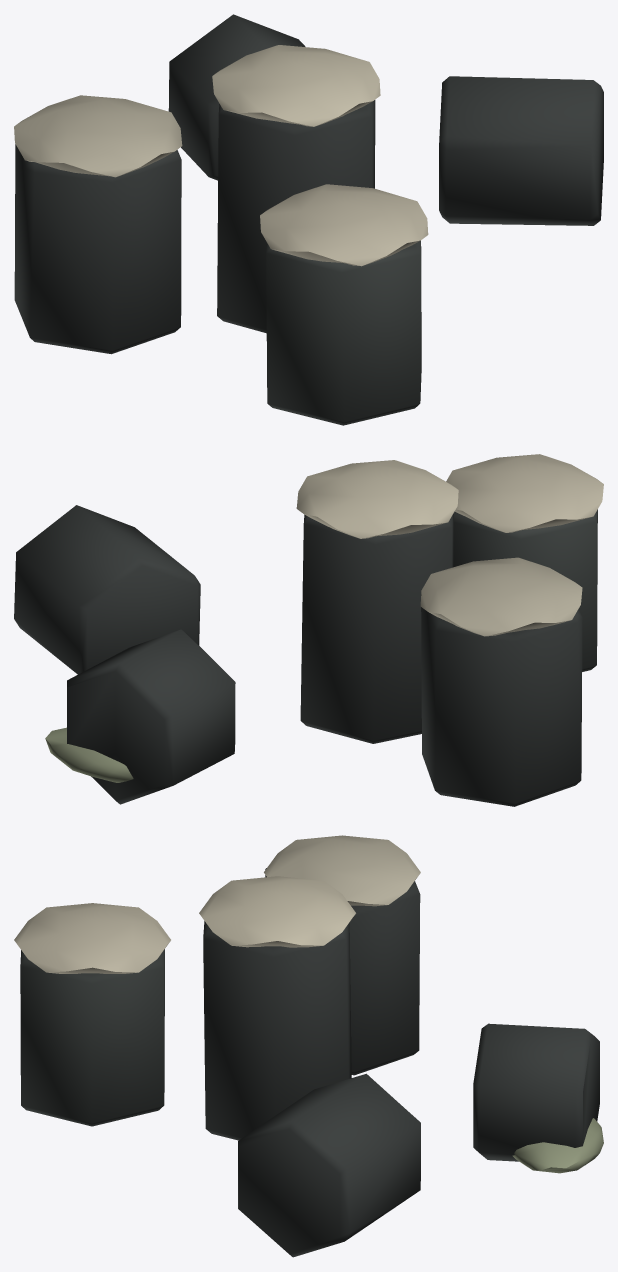
File: column_stubs_c_lod1.glb
The picture shows the model from 3 angles, top to bottom: view 1: azimuth 30°, elevation 25°; view 2: azimuth 150°, elevation 25°; view 3: azimuth 270°, elevation 25°; orthographic projection. The views are drawn at different scales.
Visible parts, largest first — view 1: Surface.001; view 2: Surface.001; view 3: Surface.001.
Boxes of the visible parts, left/top/right/bottom form: Surface.001: left=14, top=14, right=603, bottom=425; Surface.001: left=14, top=454, right=603, bottom=806; Surface.001: left=14, top=835, right=603, bottom=1257.
Size of the model in its own units: 3.37 by 1.35 by 3.19.
